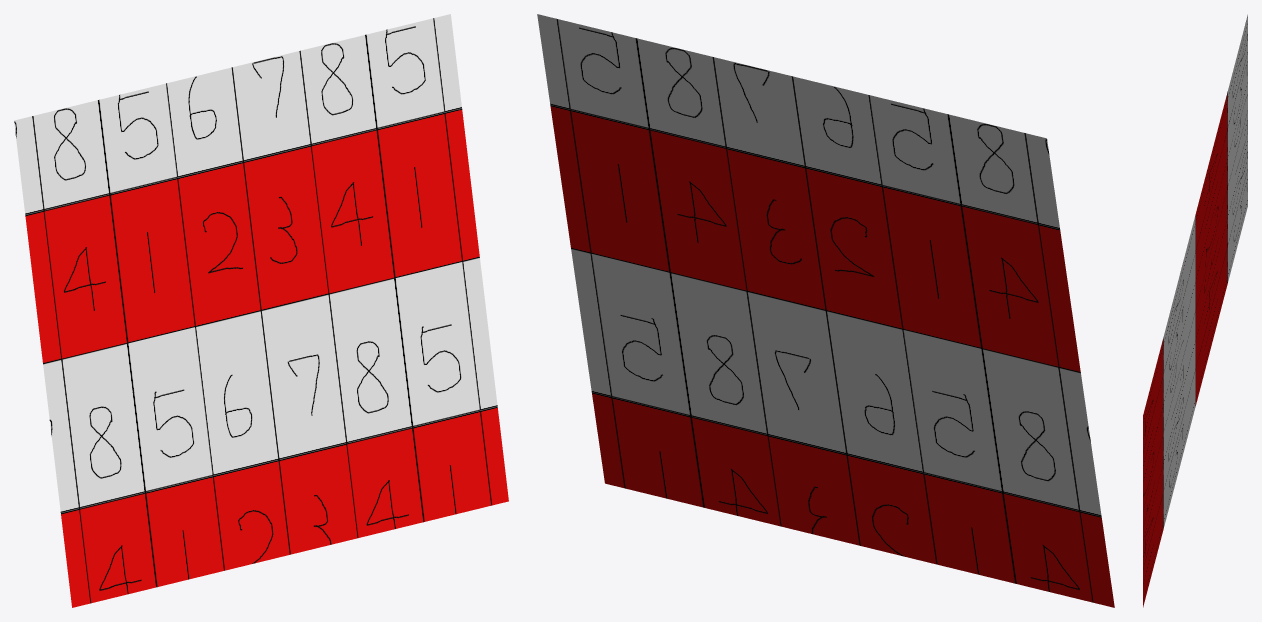
The model's file is testita.fbx.
3 renders of one model, left to right at view 1: azimuth 30°, elevation 25°; view 2: azimuth 150°, elevation 25°; view 3: azimuth 270°, elevation 25°, orthographic. The views are drawn at different scales.
Parts seen in each view (by area): view 1: pPlane1; view 2: pPlane1; view 3: pPlane1.
Part boxes in pixels (<box>): pPlane1: <box>14,14,508,607</box>; pPlane1: <box>537,14,1114,607</box>; pPlane1: <box>1143,14,1247,607</box>.
Size of the model in its own units: 1 by 0.9731 by 0.2304.
